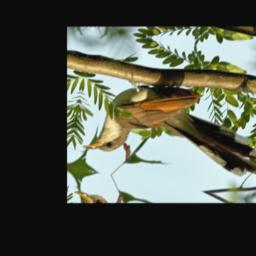Cuckoo: (82, 71, 256, 180)
